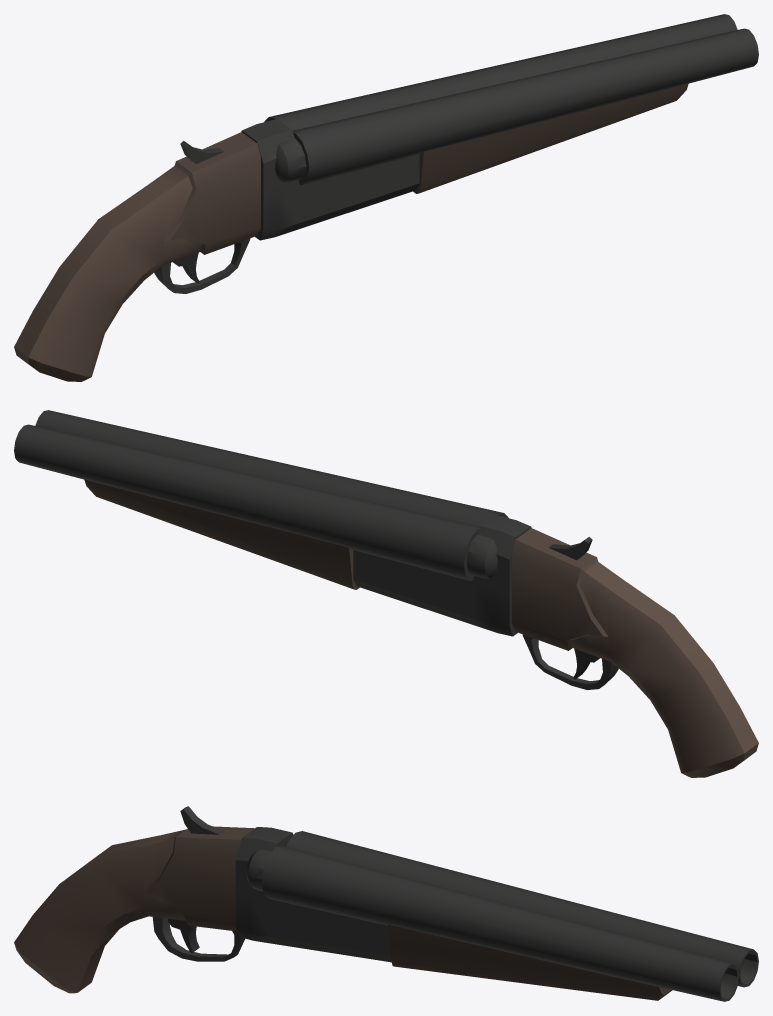
Rendered from Shotgun_Double.fbx.
The picture shows the model from 3 angles, top to bottom: view 1: azimuth 30°, elevation 25°; view 2: azimuth 150°, elevation 25°; view 3: azimuth 330°, elevation 25°; orthographic projection.
Parts seen in each view (by area): view 1: Shotgun_Double; view 2: Shotgun_Double; view 3: Shotgun_Double.
Part boxes in pixels (x1,y1,x2,y2): Shotgun_Double: (14, 14, 758, 381); Shotgun_Double: (14, 410, 758, 777); Shotgun_Double: (14, 806, 758, 1001).
Bounding box in the file's own units: 250 × 69.03 × 28.59.
